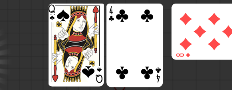4C: (108, 6, 116, 23)
8D: (175, 52, 192, 59)
